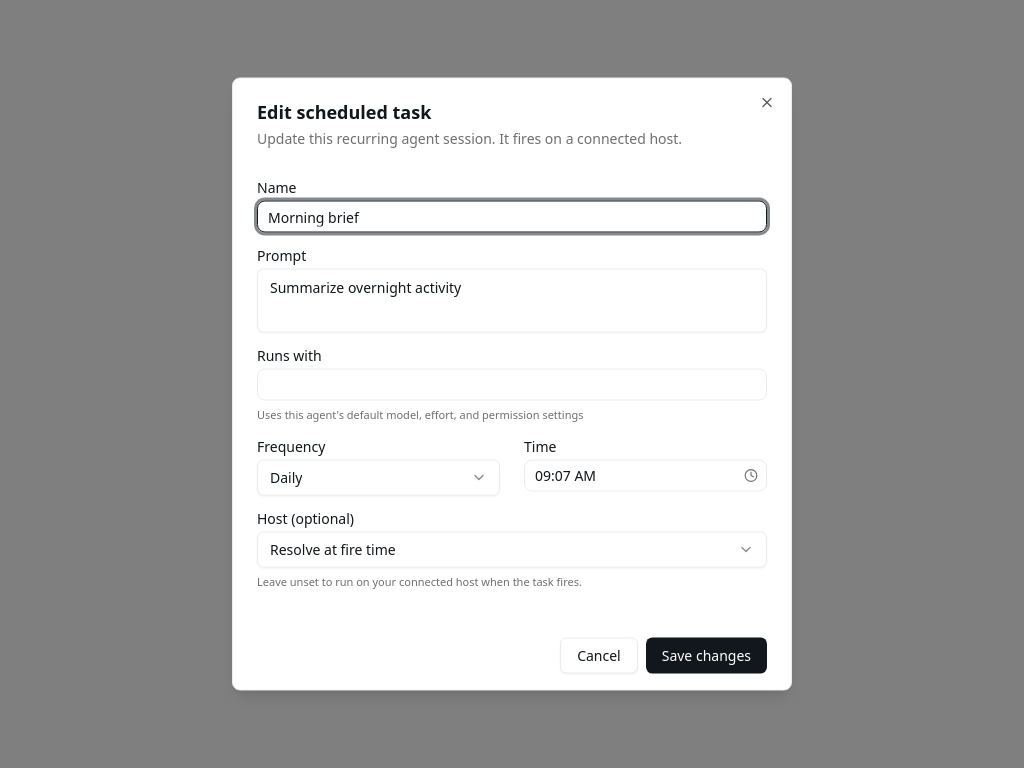
Test case: CreateScheduledTaskDialog submit › round-trips the current non-quarter-hour minute as the selected picker value
The image size is (1024, 768).
What coordinates should you click on to do the following:
click the button with test id "schedule-time-picker-trigger"
I would click on:
 (751, 475)
Its box is [743,467,759,483].
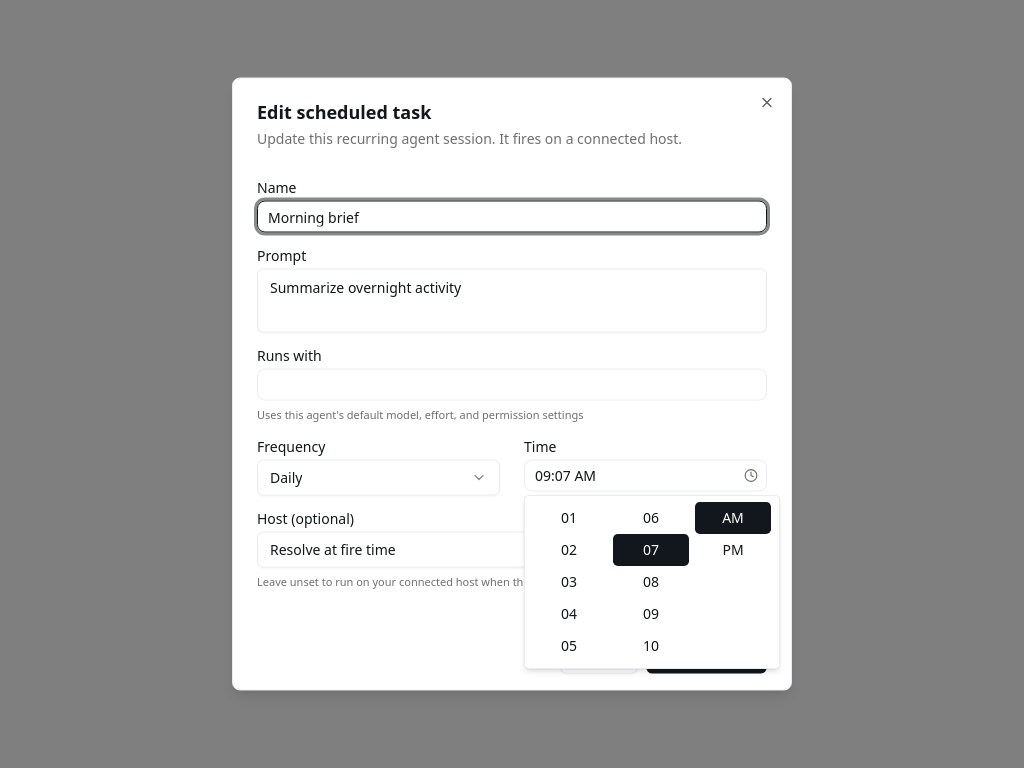
Check: the button with test id "schedule-minute-08" is shown, box [613,566,689,598]
